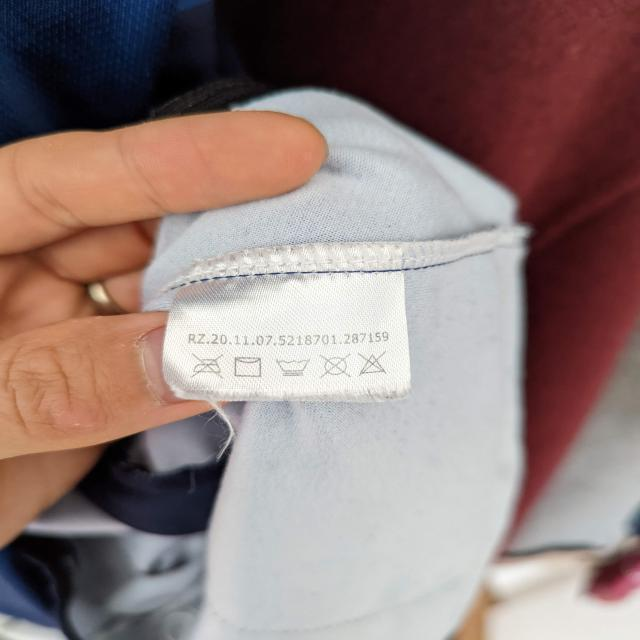DN_bleach: (358, 350, 388, 379)
DN_dry_clean: (318, 350, 353, 381)
DN_iron: (191, 350, 227, 380)
line_dry: (231, 354, 265, 380)
machine_wash: (274, 352, 312, 379)
